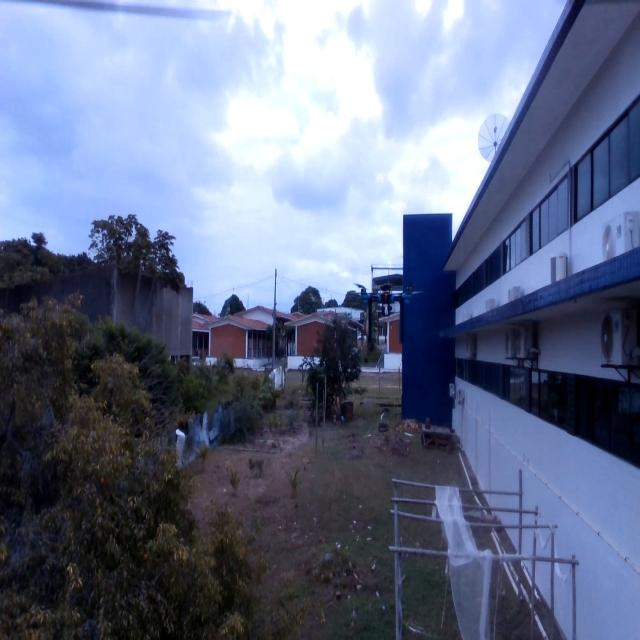-uav-: (347, 271, 426, 354)
